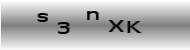3: (56, 20, 70, 35)
K: (127, 20, 142, 33)
X: (108, 19, 124, 32)
n: (85, 9, 99, 21)
s: (36, 12, 49, 22)
